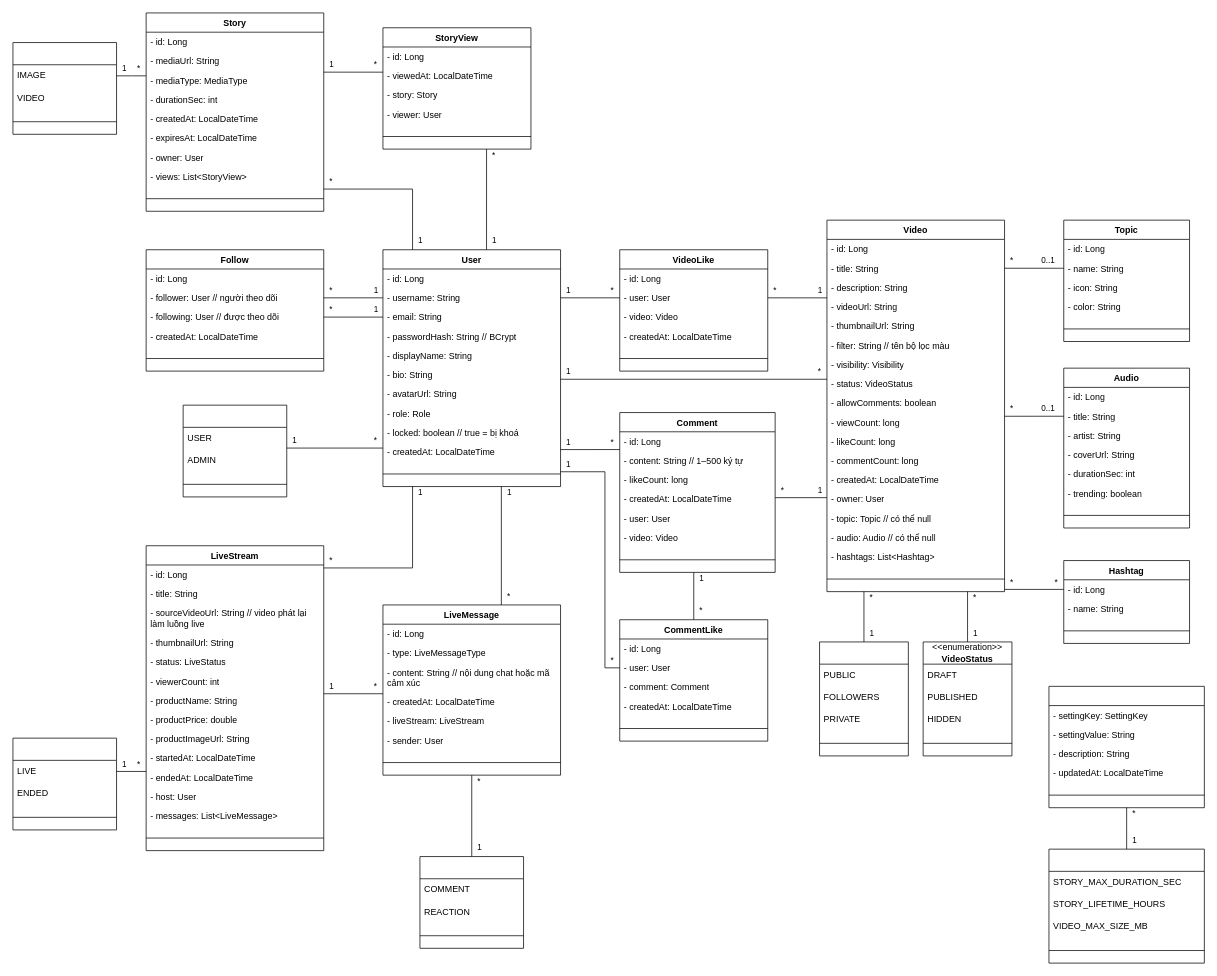
Some shapes in this 1217 by 976 pixel diagram are drawn without their labels. Each missing label, with the box of its shape:
<<enumeration>> LiveMessageType: (419, 856, 524, 948)
<<enumeration>> LiveStatus: (12, 737, 117, 830)
<<enumeration>> MediaType: (12, 42, 117, 134)
<<enumeration>> Role: (182, 404, 287, 497)
<<enumeration>> SettingKey: (1048, 848, 1204, 963)
<<enumeration>> Visibility: (819, 641, 908, 756)
SystemSetting: (1048, 686, 1204, 808)
